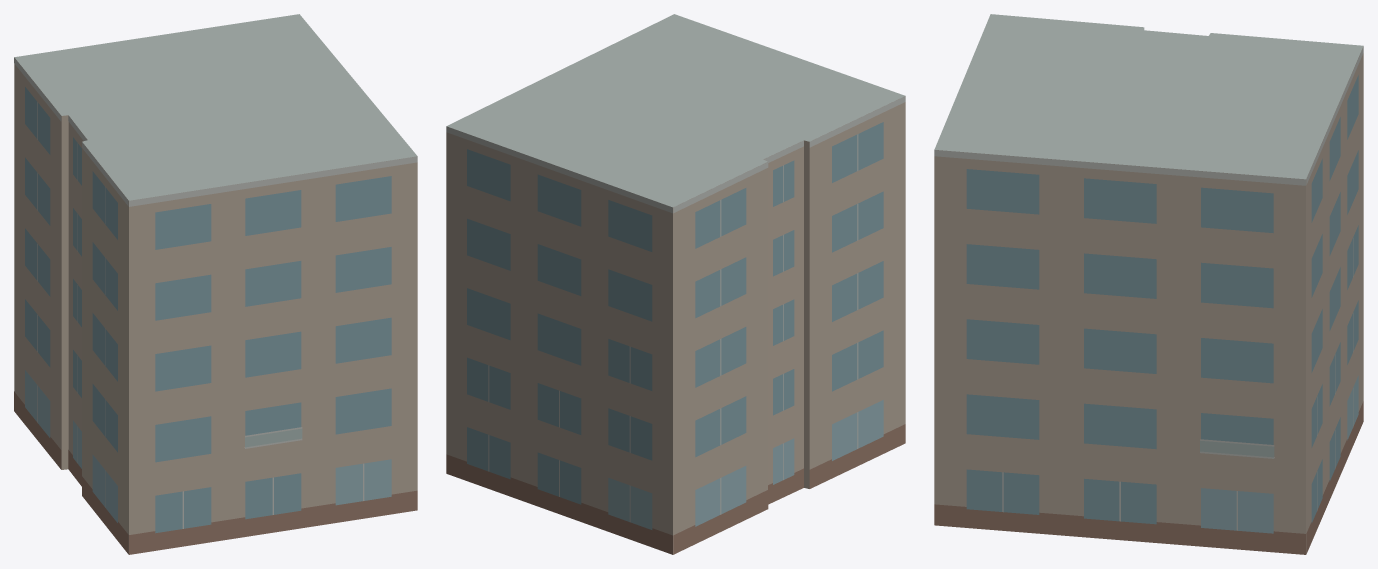
Rendered from survey-upis-32989626.glb.
3 renders of one model, left to right at view 1: azimuth 30°, elevation 25°; view 2: azimuth 150°, elevation 25°; view 3: azimuth 270°, elevation 25°, orthographic. The views are drawn at different scales.
Visible parts, largest first — view 1: survey-upis-32989626.tmp; view 2: survey-upis-32989626.tmp; view 3: survey-upis-32989626.tmp.
Boxes of the visible parts, x1=… form: survey-upis-32989626.tmp: x1=14, y1=14, x2=417, y2=554; survey-upis-32989626.tmp: x1=446, y1=14, x2=905, y2=554; survey-upis-32989626.tmp: x1=934, y1=14, x2=1363, y2=554.
Size of the model in its own units: 13.32 by 14.1 by 14.62.
